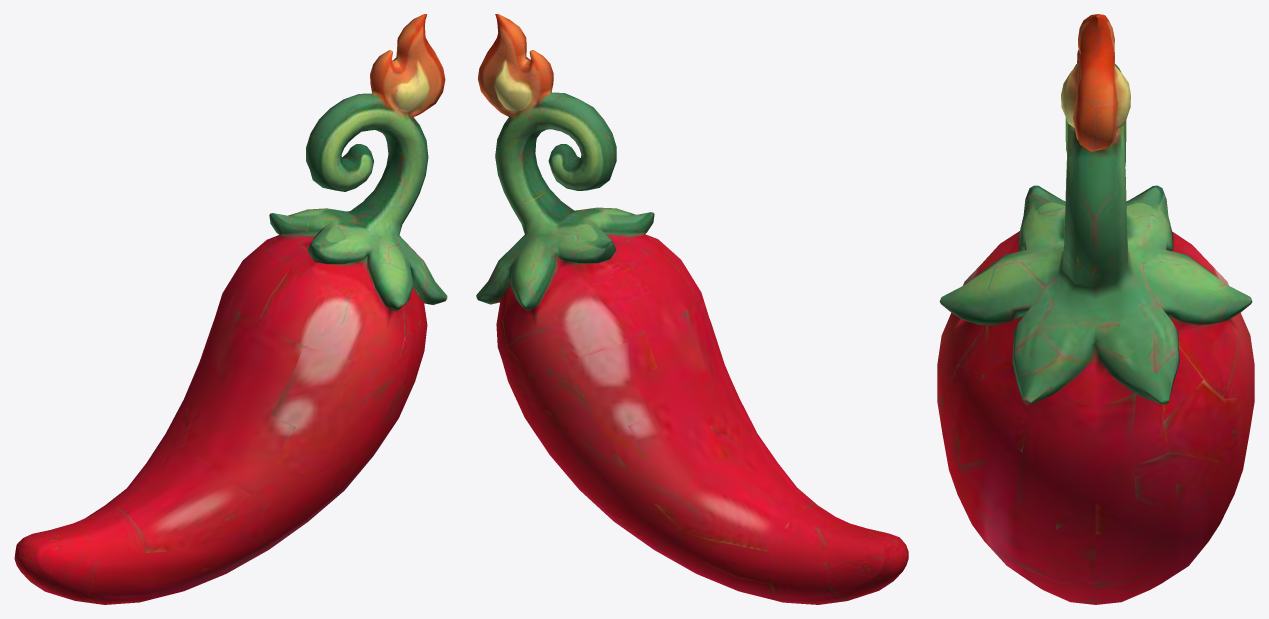
Rendered from item-pepper.glb.
3 views of the same model, side by side, from view 1: azimuth 30°, elevation 25°; view 2: azimuth 150°, elevation 25°; view 3: azimuth 270°, elevation 25° (orthographic). The views are drawn at different scales.
Size of the model in its own units: 0.8242 by 0.9526 by 0.3647.
Materials: 1 (1 with a texture image).
